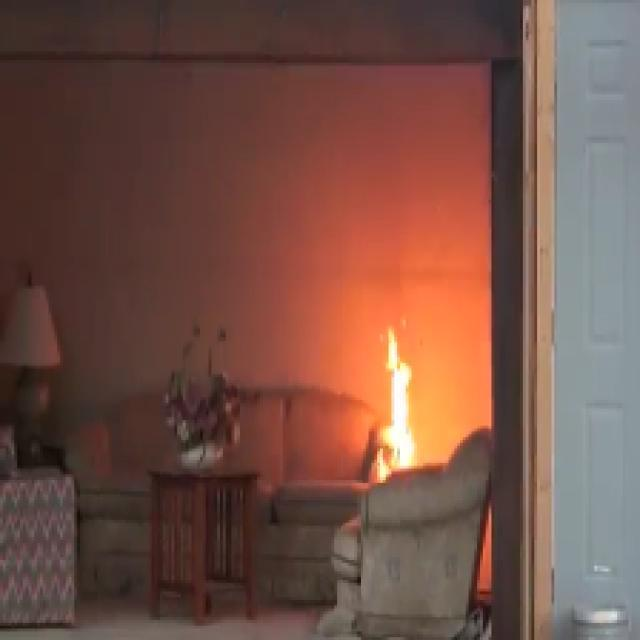Fire: (378, 325, 422, 483)
